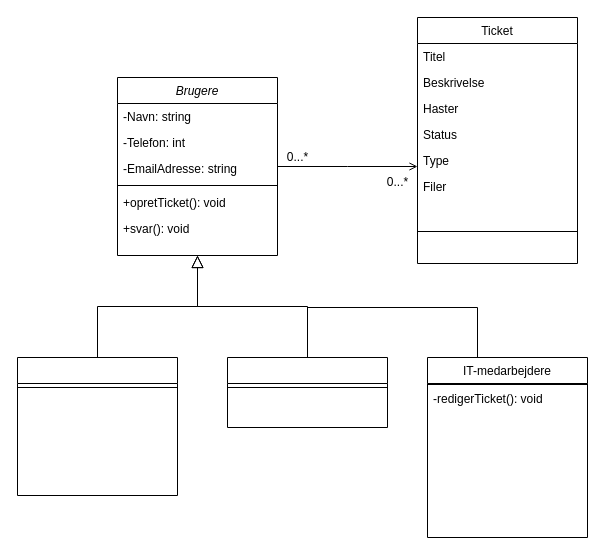
This 605x555 diagram has some shape labels left out. The shapes that lost their labels are listed below. From the top down, each one's centre as x and y in pixels, then its label:
At [307,392]: "Lærere".
At [97,426]: "Elever".
